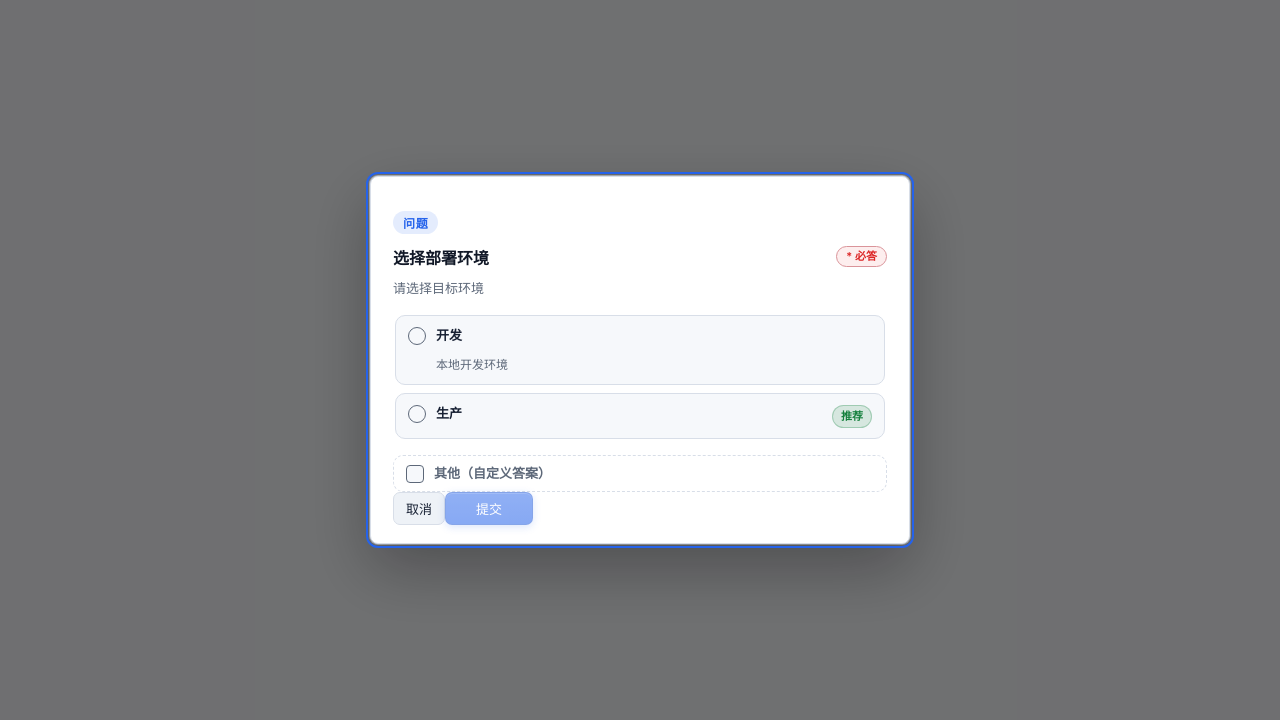
Test: QuestionModal › accepts a custom-only answer for required questions
The width and height of the screenshot is (1280, 720).
Expected: the button "提交" is disabled, x1=445 y1=492 x2=533 y2=525
Click the button "☐ 其他（自定义答案）" at (493, 473), box x1=393 y1=455 x2=887 y2=492
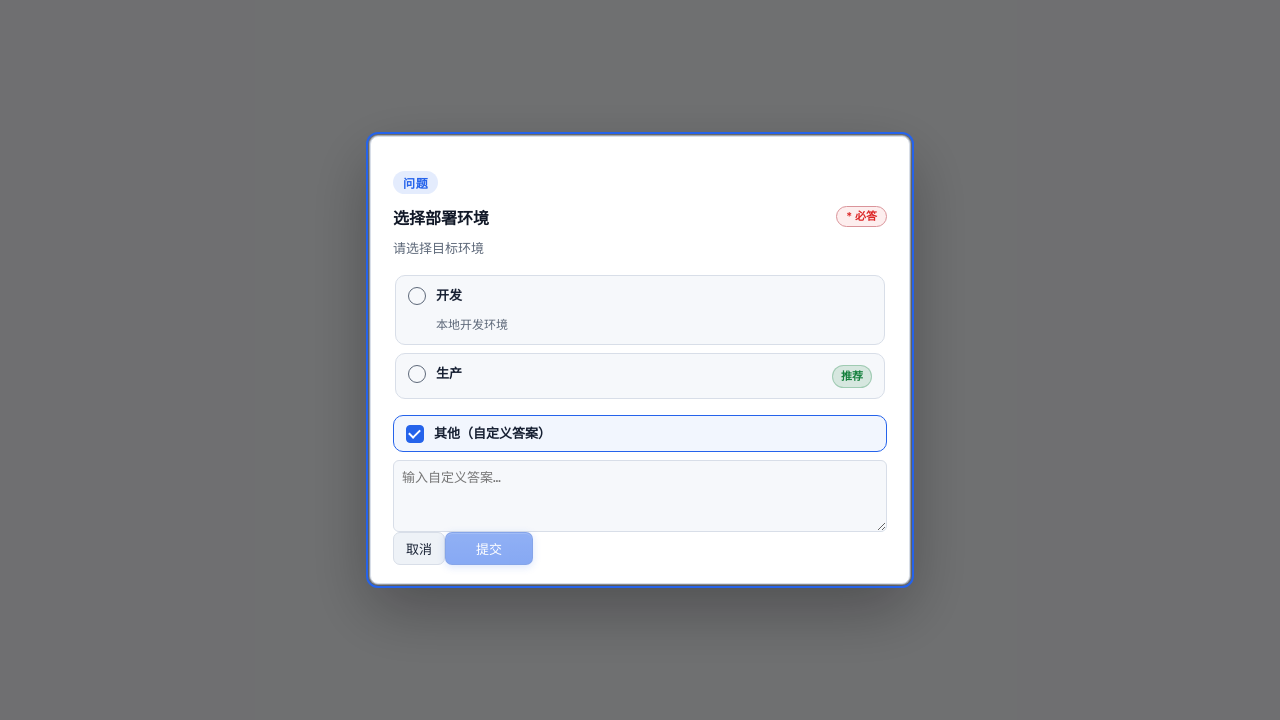
Type "自定义" into the text box with placeholder "输入自定义答案…" at (640, 496), box x1=393 y1=460 x2=887 y2=532
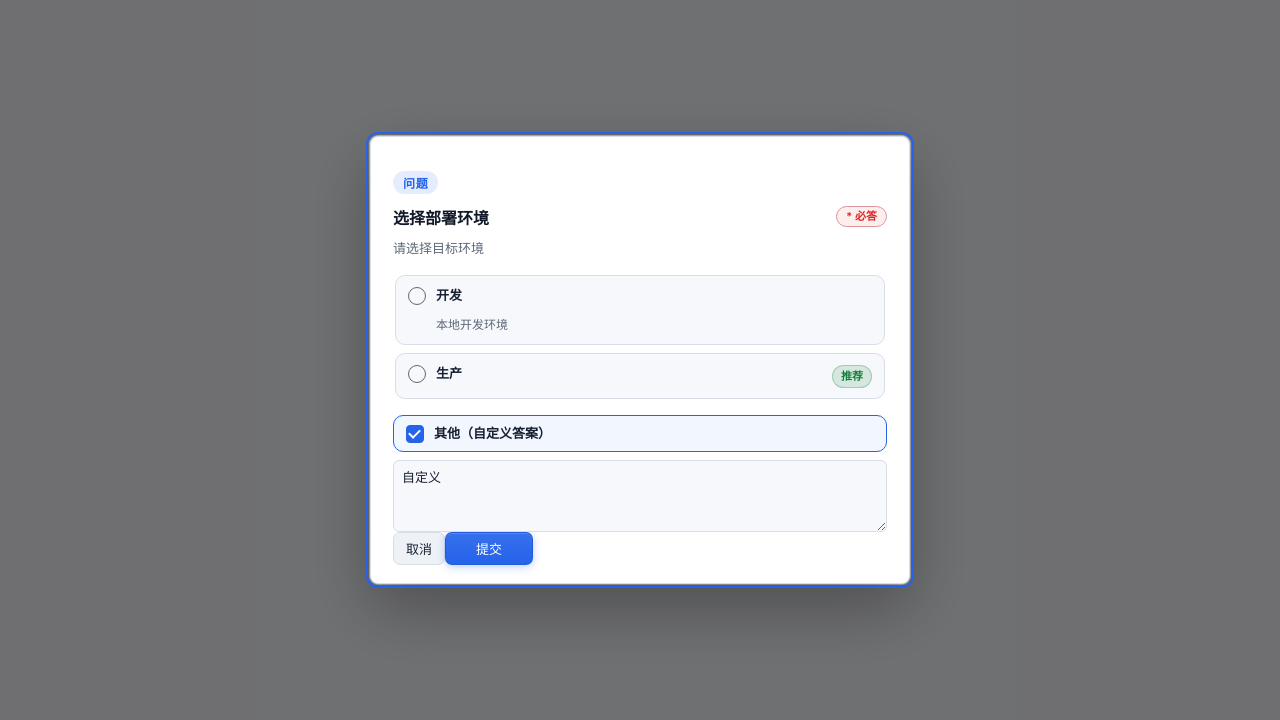
Now the button "提交" is enabled, box x1=445 y1=532 x2=533 y2=565
